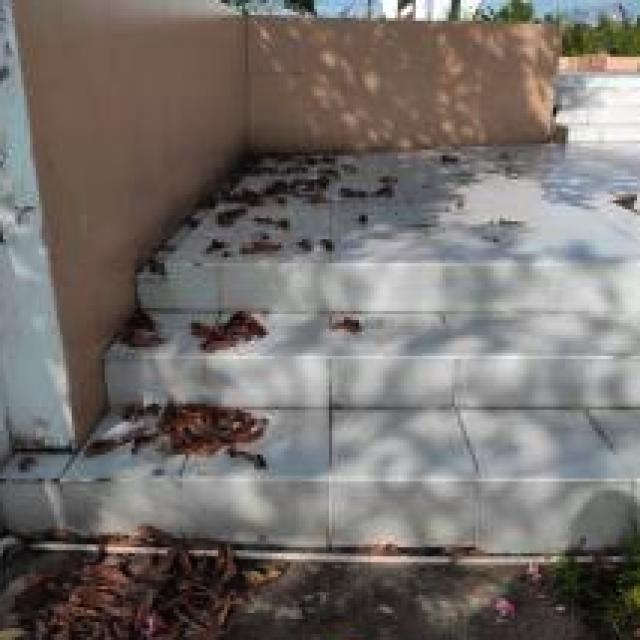upstair: (102, 231, 640, 596)
